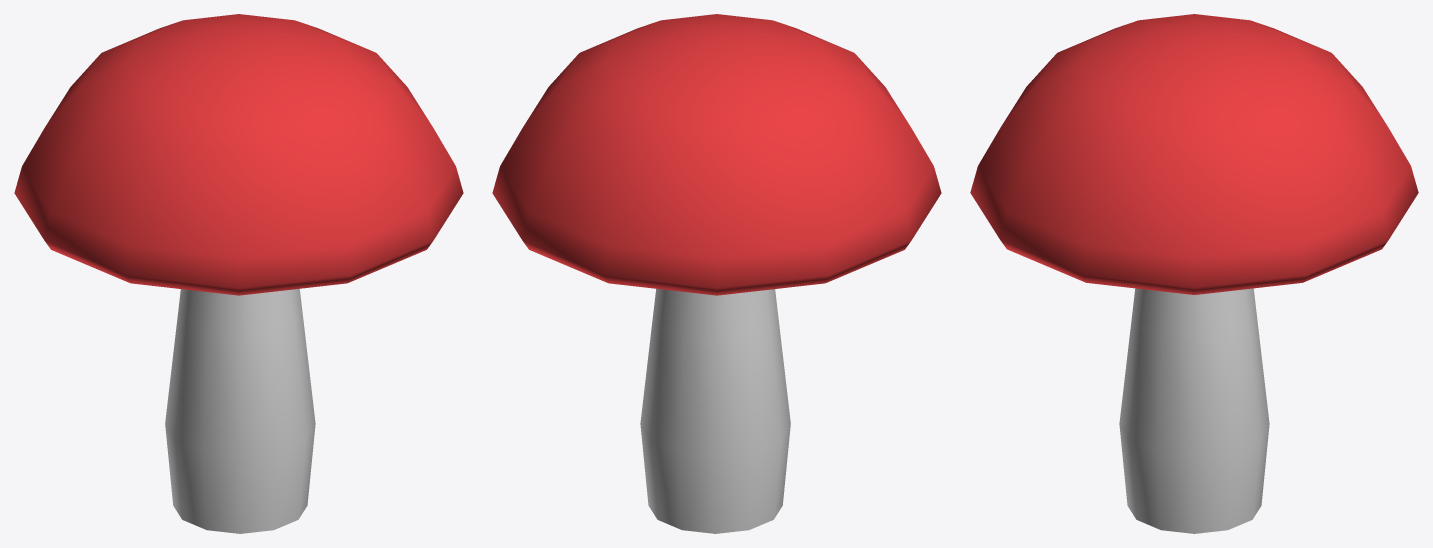
File: SM_Mushroom_01.fbx
3 views of the same model, side by side, from view 1: azimuth 30°, elevation 25°; view 2: azimuth 150°, elevation 25°; view 3: azimuth 270°, elevation 25° (orthographic).
Parts seen in each view (by area): view 1: Mushroom_01; view 2: Mushroom_01; view 3: Mushroom_01.
Boxes of the visible parts, x1=… form: Mushroom_01: x1=14, y1=14, x2=463, y2=533; Mushroom_01: x1=492, y1=14, x2=941, y2=533; Mushroom_01: x1=970, y1=14, x2=1418, y2=533.
Size of the model in its own units: 16.56 by 18.91 by 16.56.
